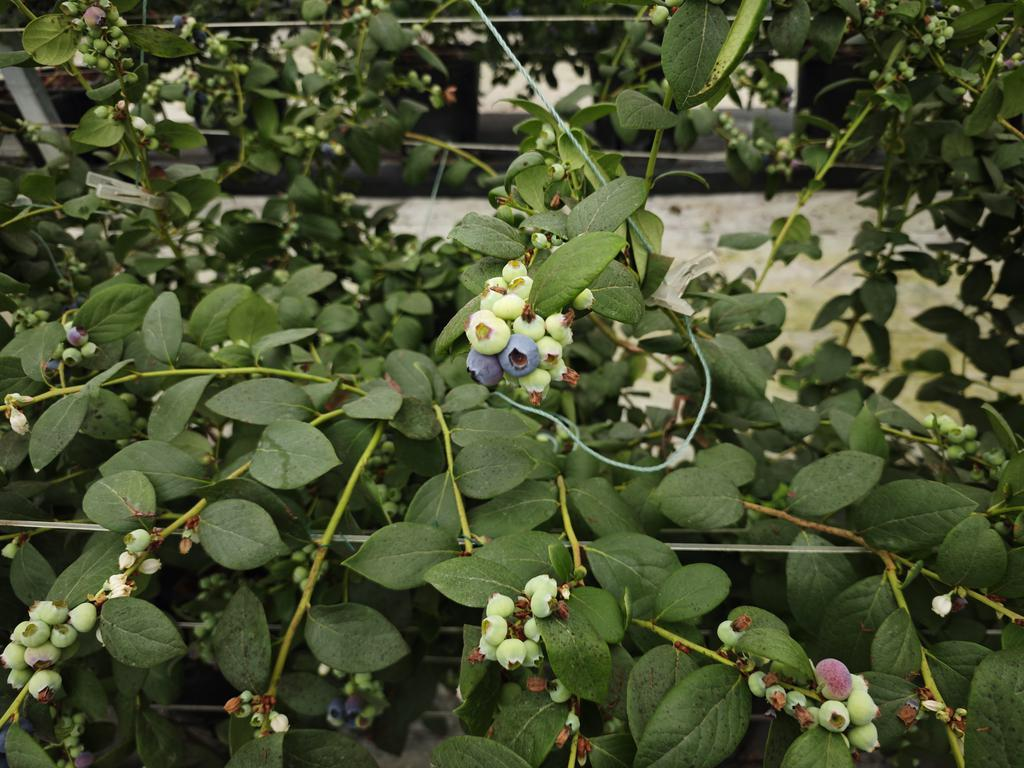RipeBlueBerry: (500, 334, 540, 379), (464, 350, 502, 388)
Semi-RipeBlueBerry: (814, 657, 853, 701)
UnripeBlueBerry: (468, 317, 510, 355)
